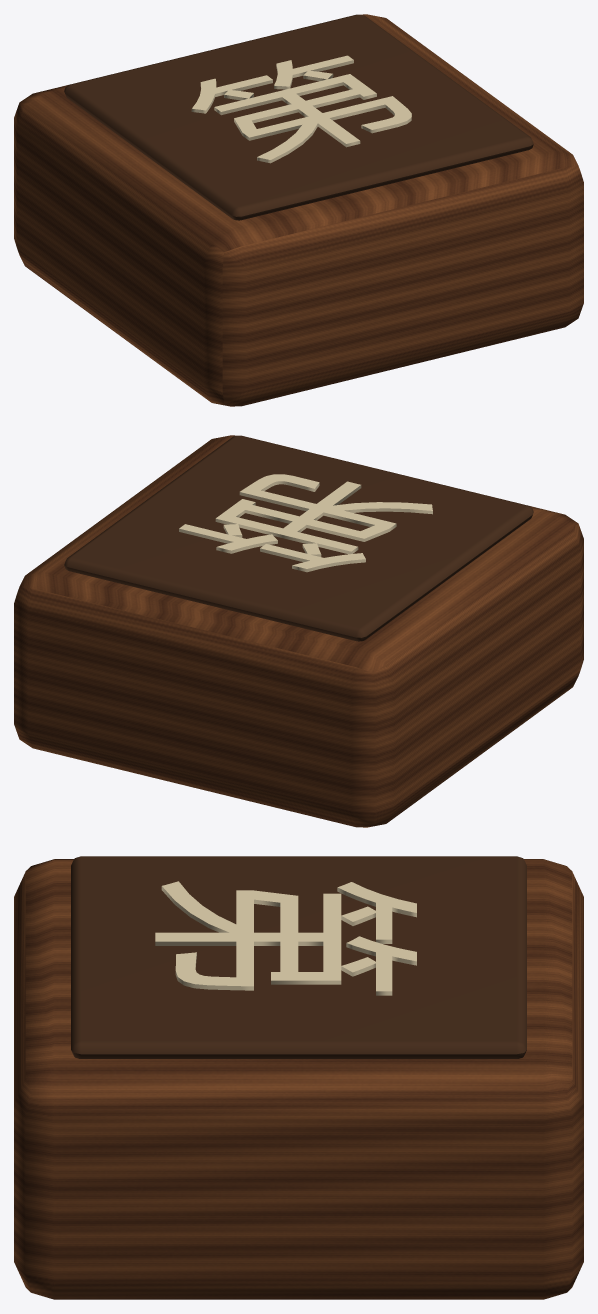
Rendered from Pickup_WoodBlock_第.fbx.
The picture shows the model from 3 angles, top to bottom: view 1: azimuth 30°, elevation 25°; view 2: azimuth 150°, elevation 25°; view 3: azimuth 270°, elevation 25°; orthographic projection. The views are drawn at different scales.
Visible parts, largest first — view 1: Letter block 第.001, Letter inset 第.001, Carved character 第.001; view 2: Letter block 第.001, Letter inset 第.001, Carved character 第.001; view 3: Letter block 第.001, Letter inset 第.001, Carved character 第.001.
Part boxes in pixels (box(x1,y1,x2,y2)): Letter block 第.001: box(14, 14, 583, 406); Letter inset 第.001: box(64, 14, 533, 220); Carved character 第.001: box(191, 55, 411, 163); Letter block 第.001: box(14, 435, 583, 827); Letter inset 第.001: box(64, 435, 533, 641); Carved character 第.001: box(179, 474, 432, 572); Letter block 第.001: box(14, 859, 583, 1299); Letter inset 第.001: box(71, 856, 526, 1058); Carved character 第.001: box(155, 881, 416, 995).
Bounding box in the file's own units: 0.085 × 0.0424 × 0.085.
3 materials, 1 textured.
